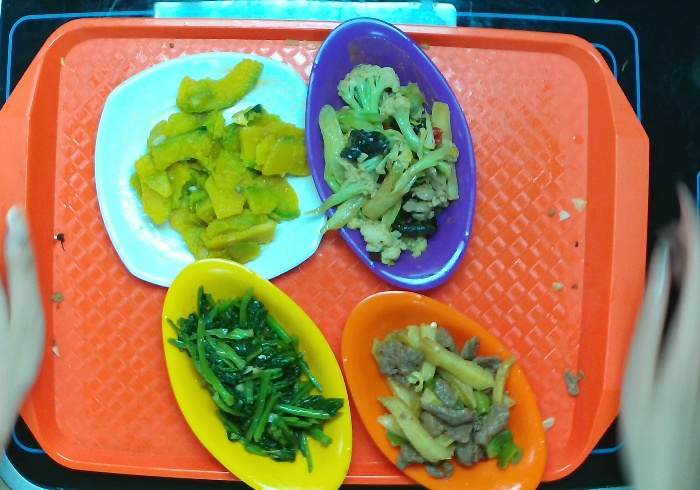RJxy-Fen_Hong_Tuo_Yuan: (303, 22, 479, 300)
RJxy-Huang_Se_Tuo_Yuan: (157, 250, 360, 490)
RJxy-Ju_Huang_Tuo_Yuan: (339, 289, 544, 490)
RJxy-Si_Fang_Die: (93, 49, 334, 286)
